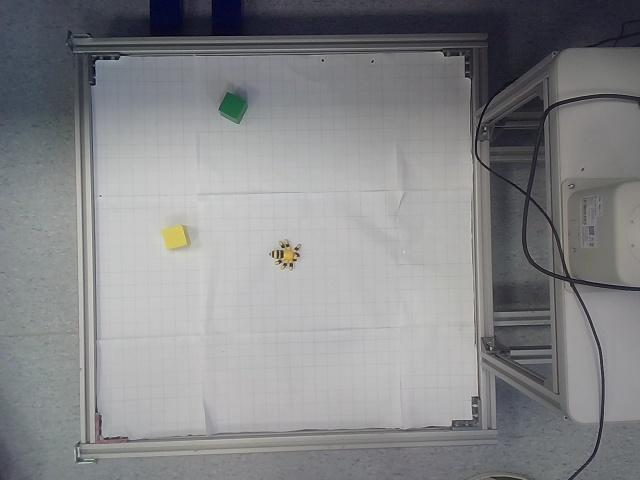frelon: (268, 239, 302, 271)
